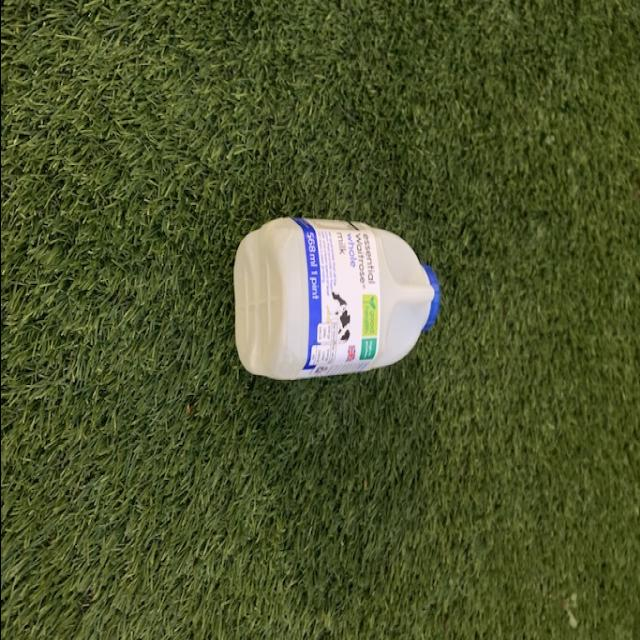litter: (230, 216, 444, 388)
